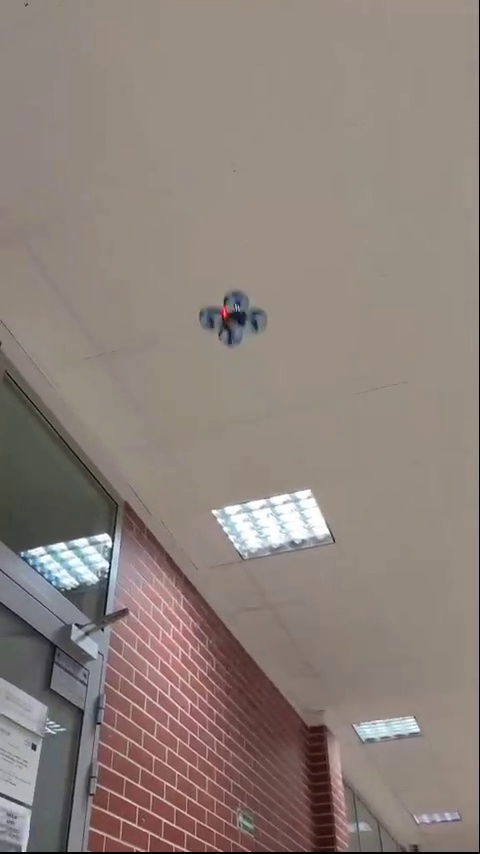drone: (198, 292, 268, 345)
